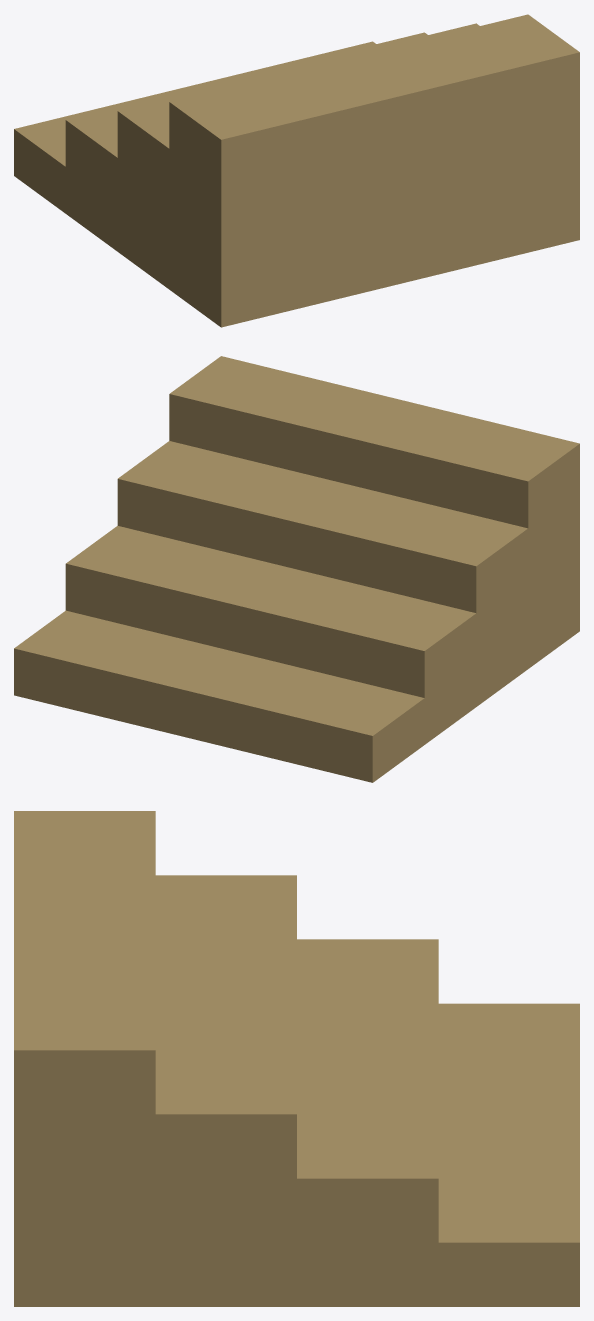
File: terrain-sand-stairs.lod0.glb
The picture shows the model from 3 angles, top to bottom: view 1: azimuth 30°, elevation 25°; view 2: azimuth 150°, elevation 25°; view 3: azimuth 270°, elevation 25°; orthographic projection. The views are drawn at different scales.
Visible parts, largest first — view 1: terrain-sand-stairs__body; view 2: terrain-sand-stairs__body; view 3: terrain-sand-stairs__body.
Boxes of the visible parts, x1=… form: terrain-sand-stairs__body: x1=14, y1=14, x2=579, y2=327; terrain-sand-stairs__body: x1=14, y1=356, x2=579, y2=782; terrain-sand-stairs__body: x1=14, y1=811, x2=579, y2=1306.
Bounding box in the file's own units: 2 × 1 × 2.
